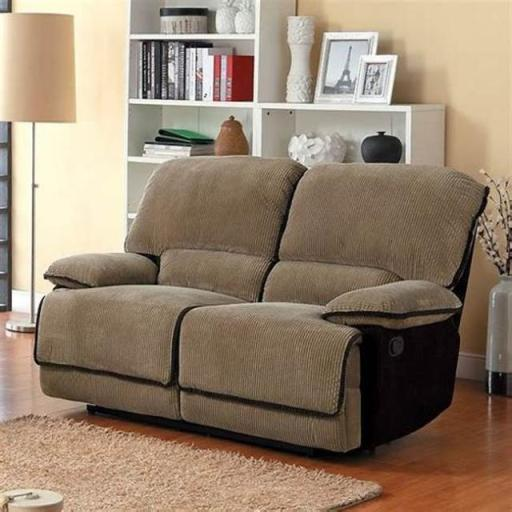sofa: (34, 140, 500, 490)
